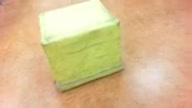cube: (38, 1, 124, 92)
